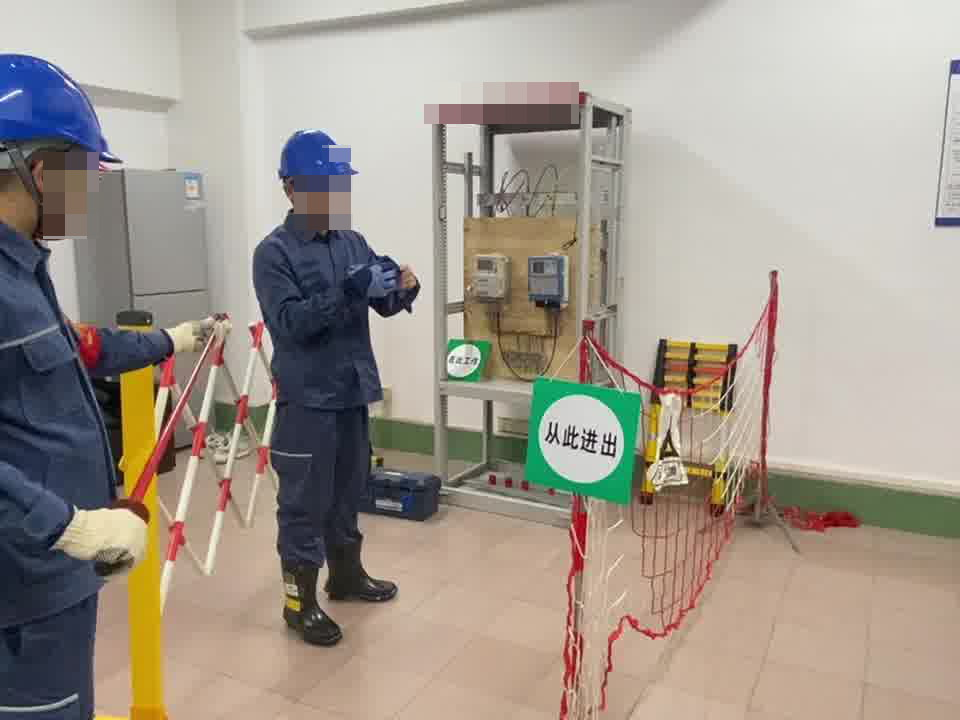badge: (63, 315, 103, 372)
downsuit: (270, 411, 375, 566), (3, 596, 100, 720)
glove: (345, 259, 396, 300)
halt: (1, 50, 122, 247), (275, 129, 359, 225)
hand: (400, 264, 419, 293)
inear: (5, 133, 76, 235), (281, 174, 310, 217)
intosign: (521, 374, 643, 512)
person: (1, 49, 175, 720), (246, 128, 423, 650)
shoe: (279, 536, 400, 645)
testrod: (97, 315, 227, 572)
upsuit: (1, 218, 170, 632), (252, 220, 420, 409)
wglove: (56, 495, 147, 574), (168, 315, 227, 358)
worksign: (446, 335, 494, 388)
